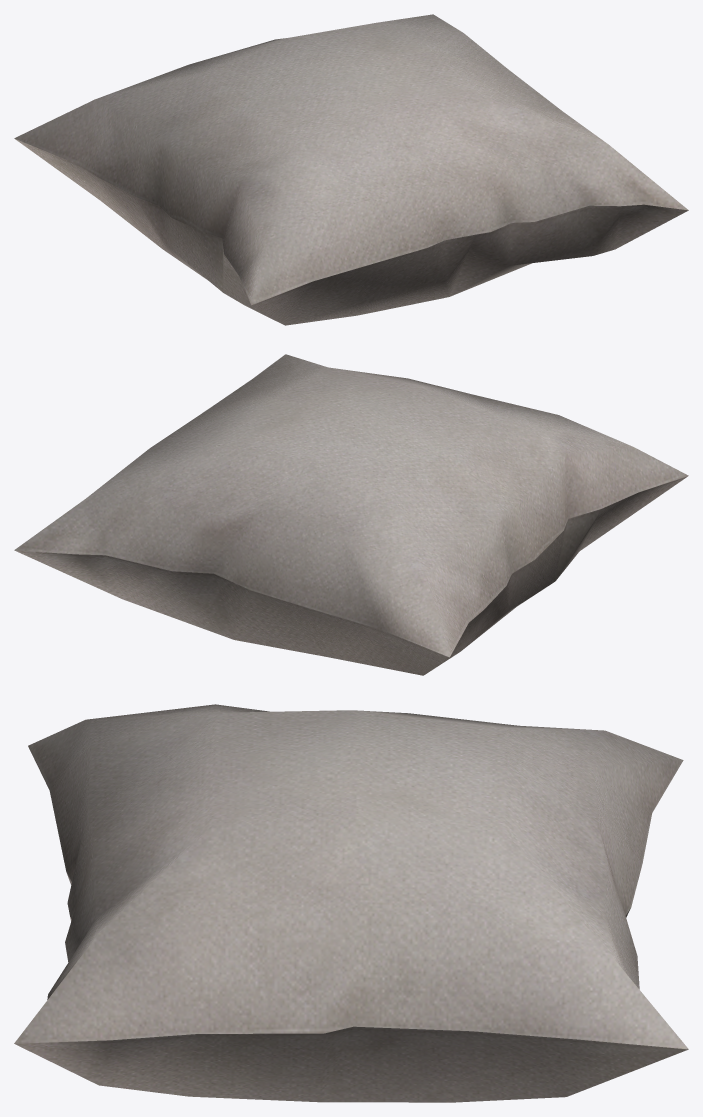
File: Ht_baozhen_02.FBX
The picture shows the model from 3 angles, top to bottom: view 1: azimuth 30°, elevation 25°; view 2: azimuth 150°, elevation 25°; view 3: azimuth 270°, elevation 25°; orthographic projection. The views are drawn at different scales.
Parts seen in each view (by area): view 1: Ht_baozhen_02; view 2: Ht_baozhen_02; view 3: Ht_baozhen_02.
Boxes of the visible parts, x1=… form: Ht_baozhen_02: x1=14, y1=14, x2=688, y2=325; Ht_baozhen_02: x1=14, y1=354, x2=688, y2=675; Ht_baozhen_02: x1=14, y1=704, x2=688, y2=1102.
Bounding box in the file's own units: 86.03 × 38.96 × 83.22.
